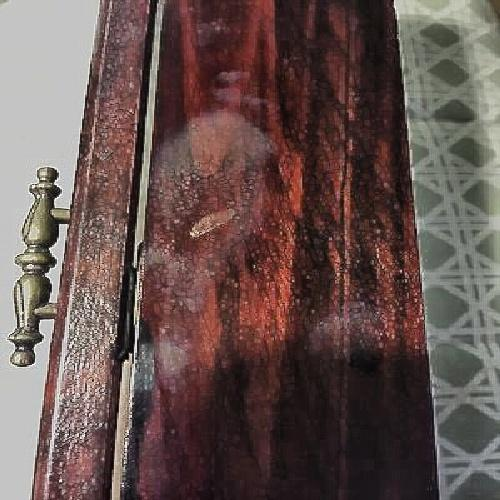cabinet: (37, 7, 440, 482)
